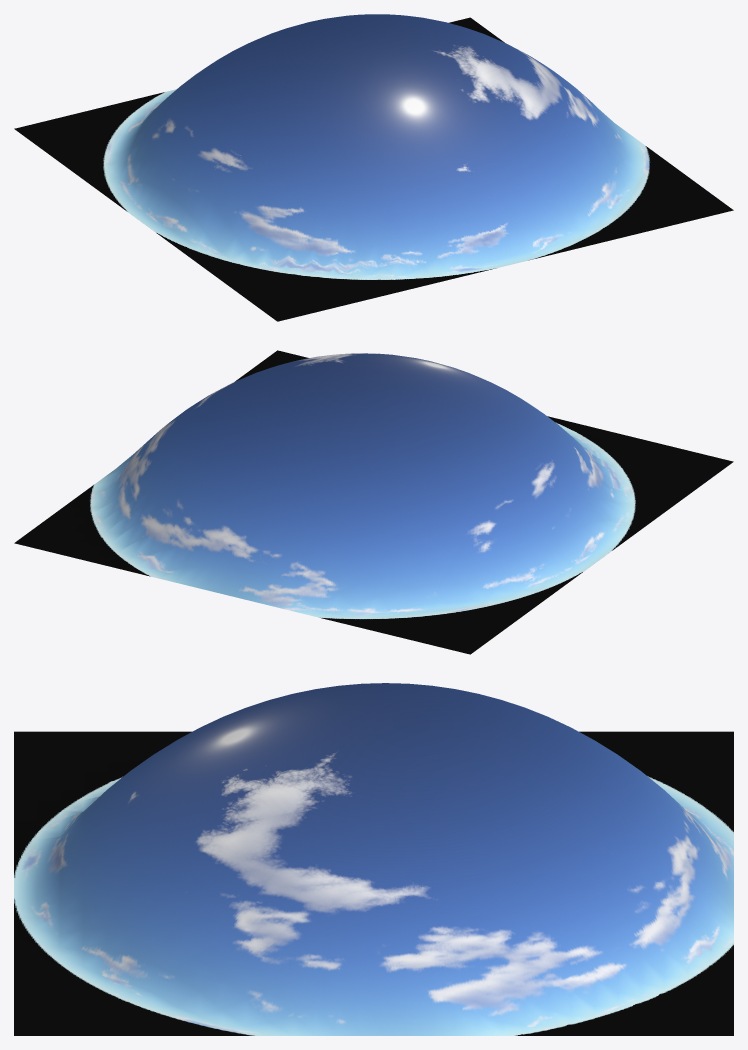
File: Ciel2.FBX
3 views of the same model, one above another, from view 1: azimuth 30°, elevation 25°; view 2: azimuth 150°, elevation 25°; view 3: azimuth 270°, elevation 25° (orthographic). The views are drawn at different scales.
Parts seen in each view (by area): view 1: _dummy_node; view 2: _dummy_node; view 3: _dummy_node.
Boxes of the visible parts, left/top/right/bottom form: _dummy_node: left=14, top=14, right=733, bottom=321; _dummy_node: left=14, top=350, right=733, bottom=654; _dummy_node: left=14, top=683, right=733, bottom=1035.
Size of the model in its own units: 1.94 by 0.5 by 1.94.
Materials: 1 (1 with a texture image).
